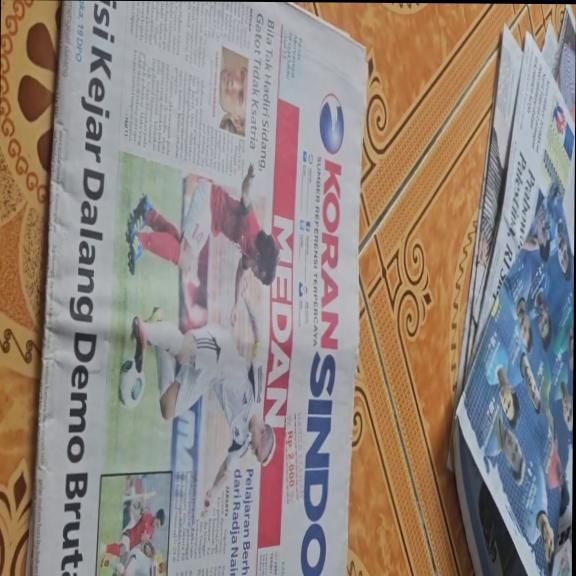Kertas: (36, 3, 356, 570), (116, 1, 267, 184)
